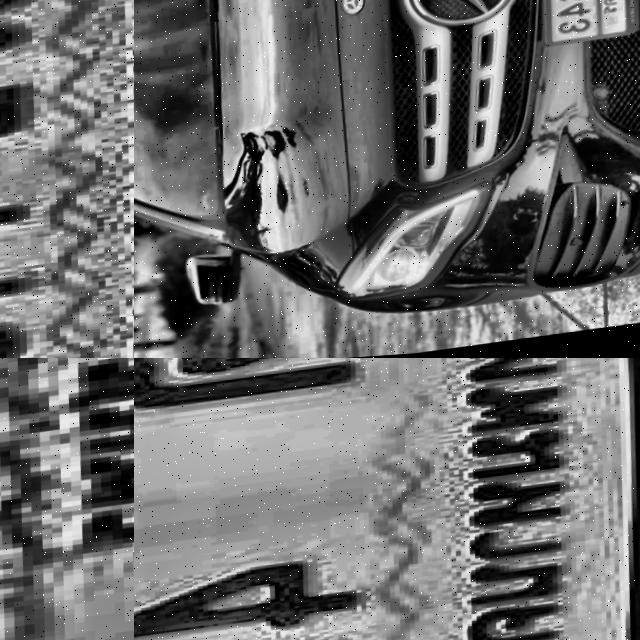license-plate: (134, 358, 640, 640), (0, 0, 134, 358), (0, 358, 134, 640), (533, 0, 640, 52)
